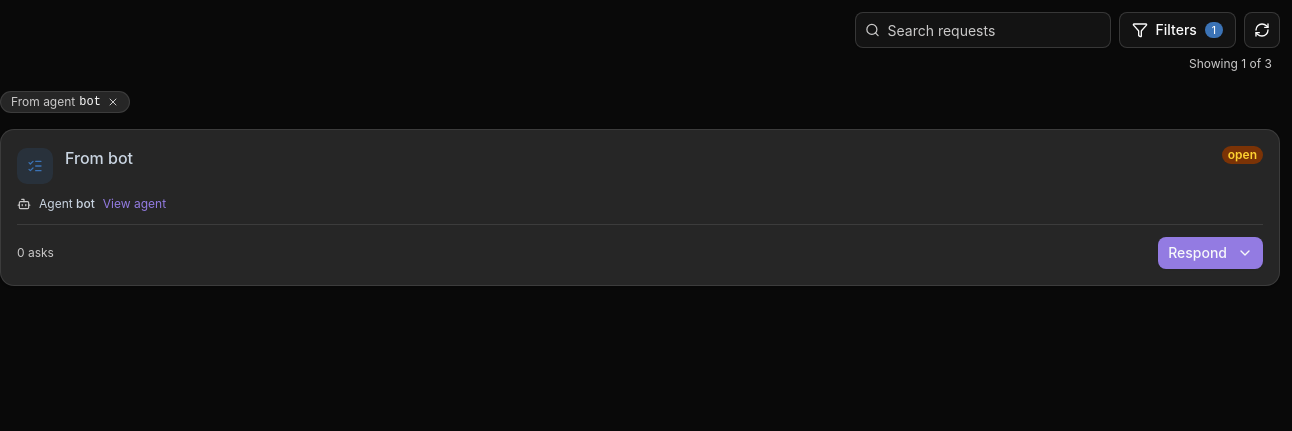
Test: agent deep link (#364) › drops the agent filter from its chip
Click the button named "every agent": (113, 102) [107, 96, 119, 108]
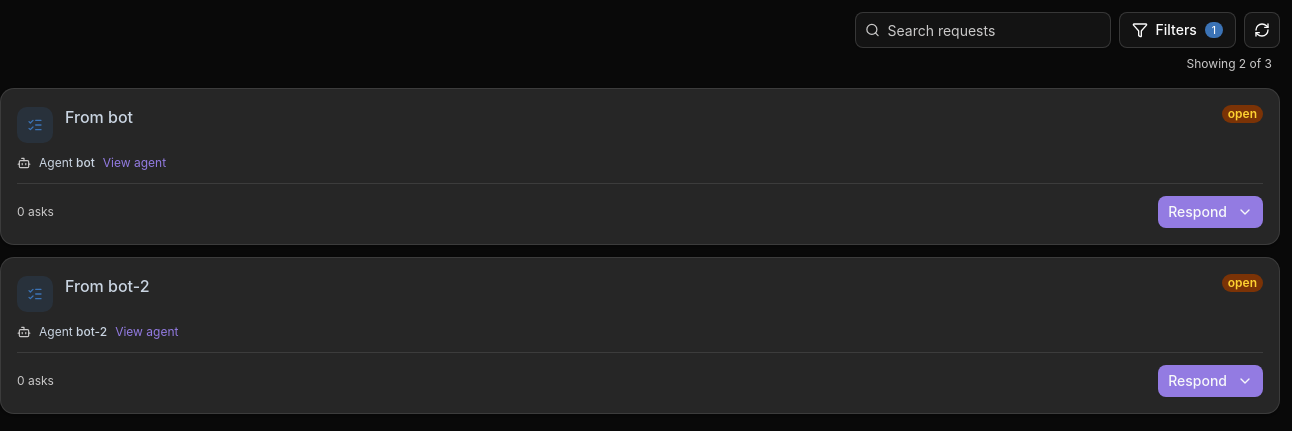
Check: the element with test id "hitl-agent-filter" is gone
Check: the text "From bot-2" is shown, box [65, 274, 150, 298]
